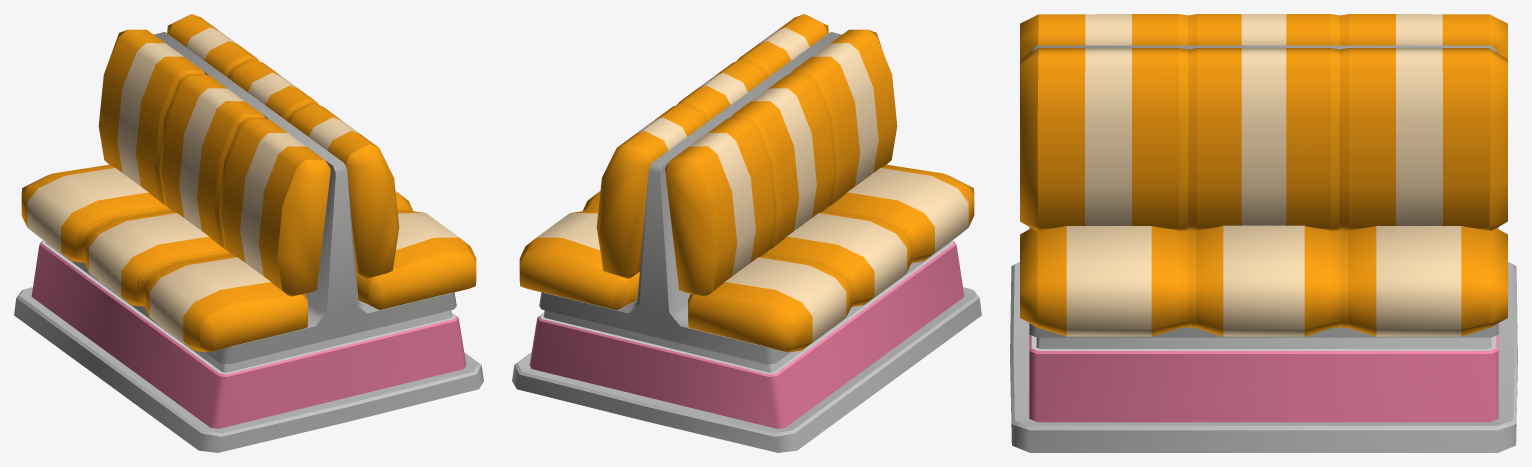
The model's file is Sofa_1_C.glb.
3 renders of one model, left to right at view 1: azimuth 30°, elevation 25°; view 2: azimuth 150°, elevation 25°; view 3: azimuth 270°, elevation 25°, orthographic. The views are drawn at different scales.
Visible parts, largest first — view 1: Sofa_1_C; view 2: Sofa_1_C; view 3: Sofa_1_C.
Part boxes in pixels (x1,y1,x2,y2): Sofa_1_C: (14, 14, 483, 452); Sofa_1_C: (512, 14, 981, 452); Sofa_1_C: (1010, 14, 1517, 452).
Size of the model in its own units: 1.26 by 1.09 by 1.52.
2 materials, 2 textured.
